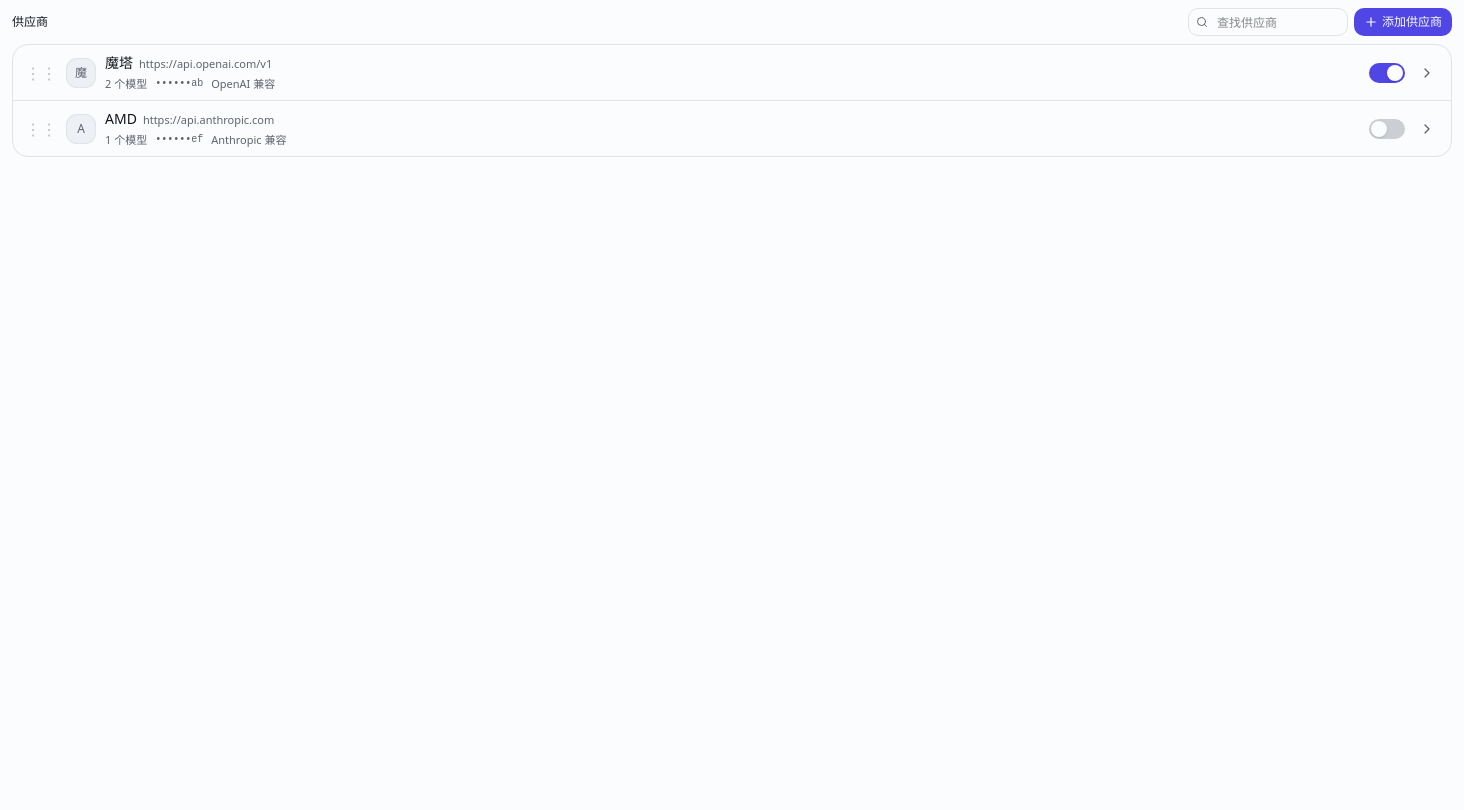
Test: 供应商详情 › 测试连接：失败回具体原因（红字留在页内），不写盘
Click the button named "配置 魔塔": (1427, 72) x1=1415 y1=60 x2=1439 y2=84
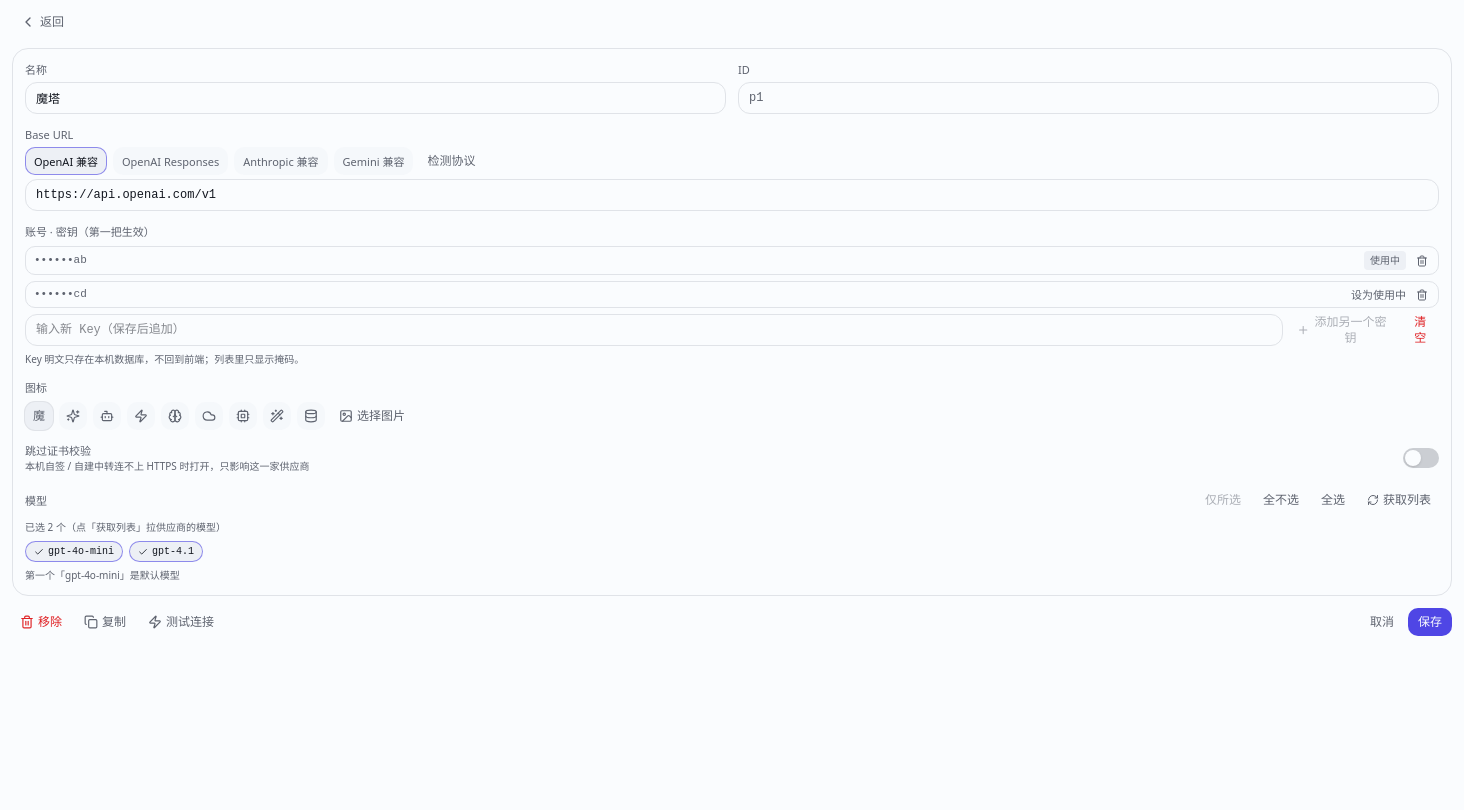
Click the button "测试连接": (181, 622) x1=140 y1=608 x2=222 y2=636
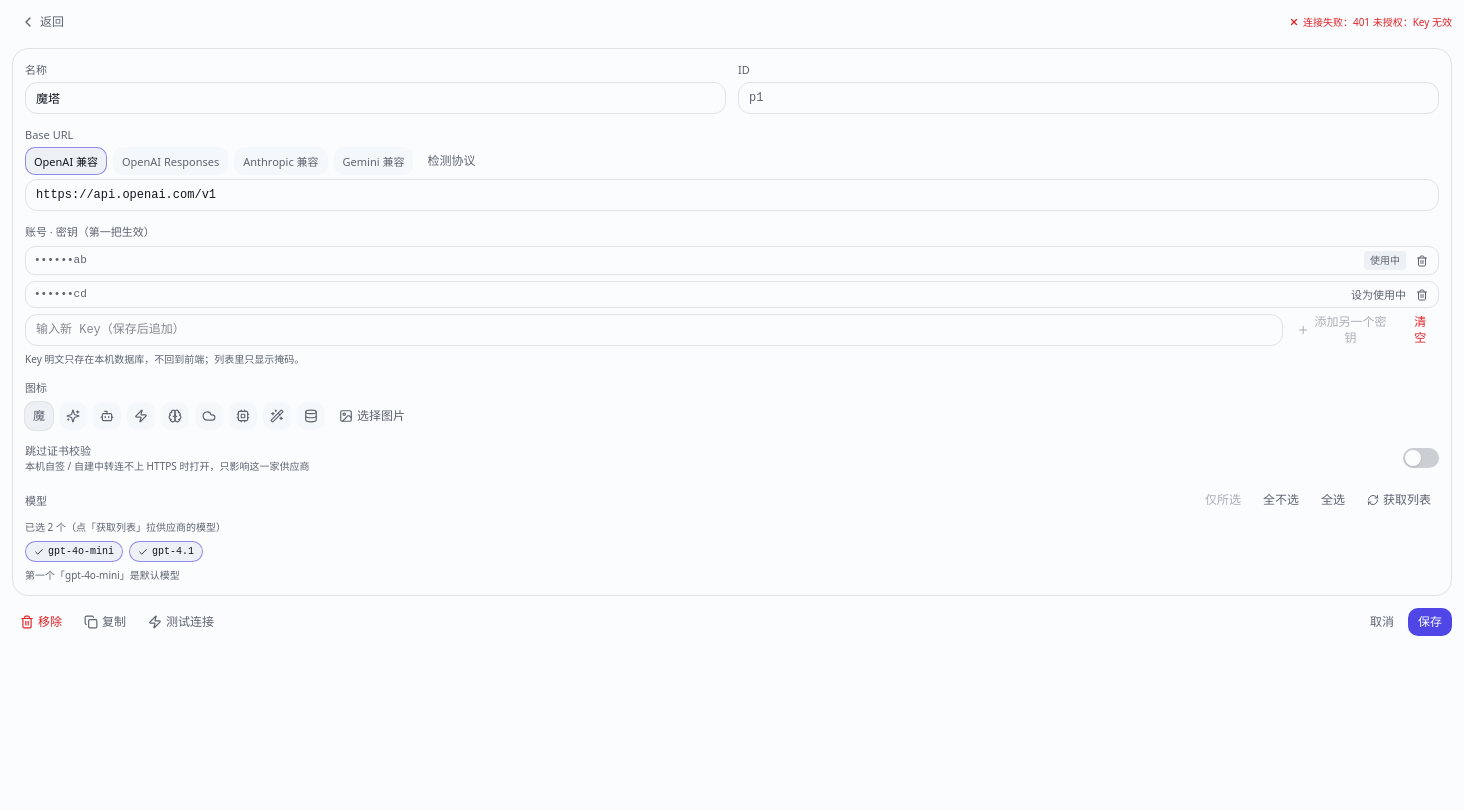
Expected: the message shows "401 未授权：Key 无效", x1=1303 y1=14 x2=1452 y2=28
